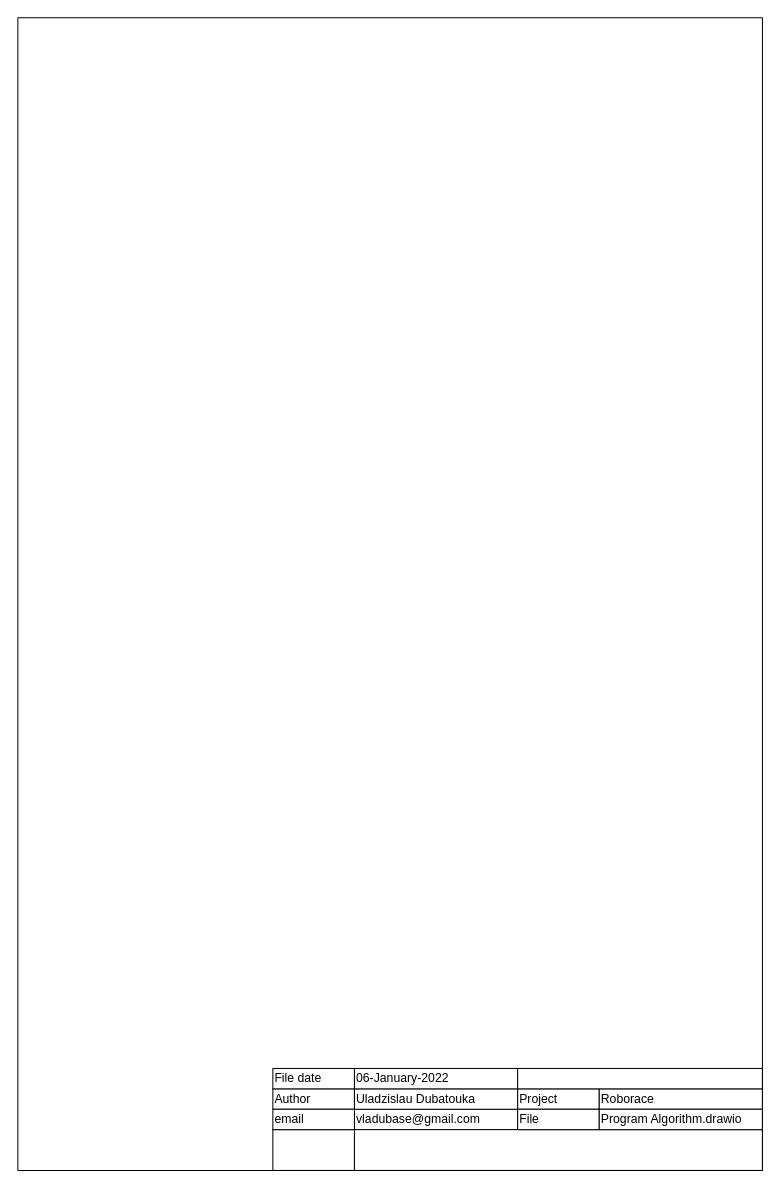
Some shapes in this 781 by 1189 pixel diagram are drawn without their labels. Each missing label, with the centre of its shape:
"ALGORITHM DIAGRAM FOR ROBORACE CAR" belongs at pixel 557 1149.
"Sheet 1 of 2" belongs at pixel 639 1078.
"TITLE" belongs at pixel 313 1149.
